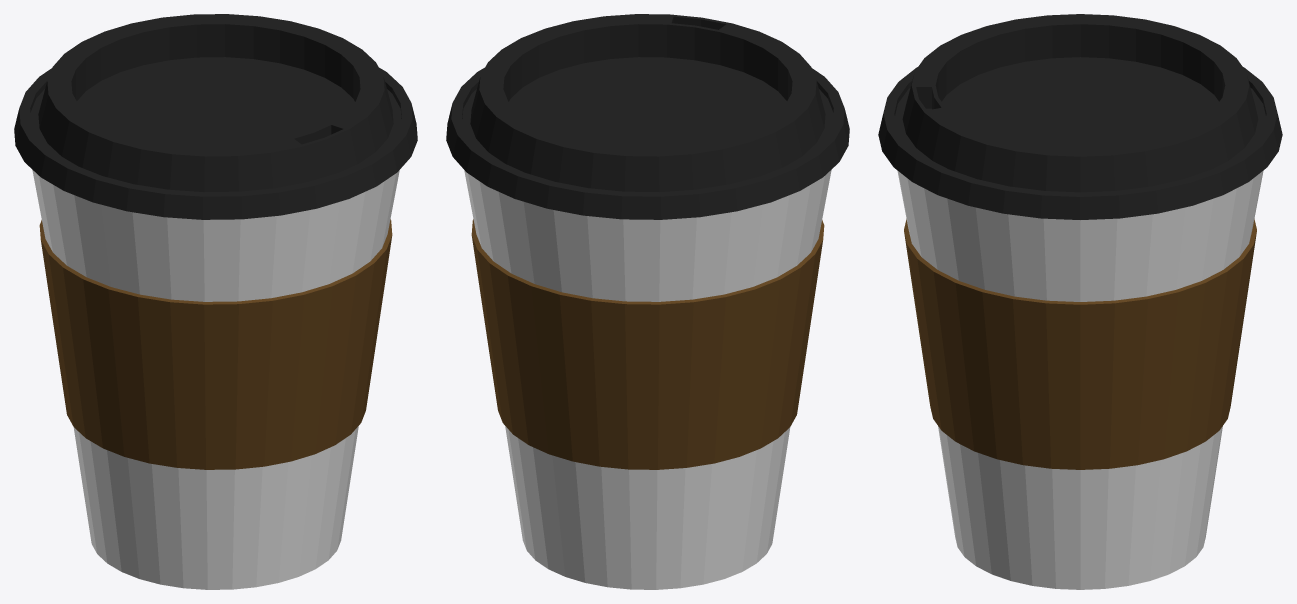
File: disposable_cup.glb
3 views of the same model, side by side, from view 1: azimuth 30°, elevation 25°; view 2: azimuth 150°, elevation 25°; view 3: azimuth 270°, elevation 25° (orthographic).
Visible parts, largest first — view 1: Cylinder; view 2: Cylinder; view 3: Cylinder.
Boxes of the visible parts, x1,y1,x2,y2 form: Cylinder: (14, 14, 417, 589); Cylinder: (446, 14, 849, 589); Cylinder: (878, 14, 1282, 589).
Bounding box in the file's own units: 2.12 × 2.61 × 2.12.
1 material, 1 textured.
